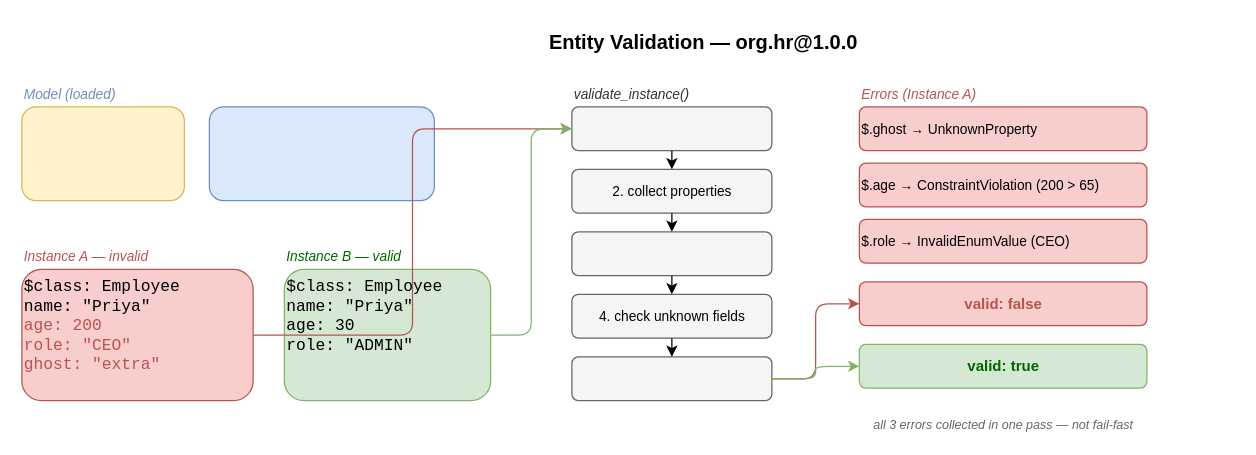
Some shapes in this 1256 by 455 pixel diagram are drawn without their labels. Here are the shapes that lost their labels. From the top down, the centre of each, then its label:
(671,128): 1. resolve $class
(102,153): Role (enum) ADMIN STAFF
(321,153): Employee (concept) name : String age : Integer [18–65] role : Role
(671,253): 3. check missing fields
(671,378): 5. validate each value
